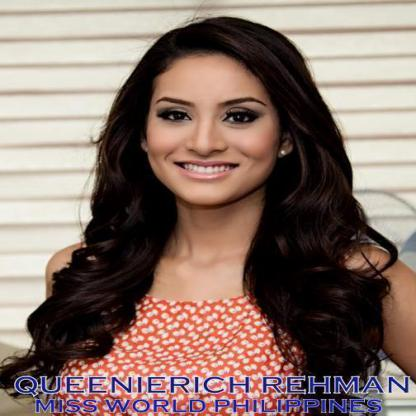long-hair: (57, 207, 384, 282)
